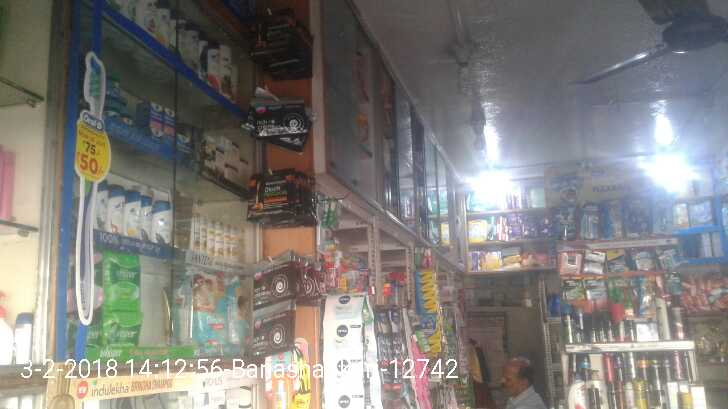beauty: (150, 200, 173, 244), (122, 190, 140, 239), (107, 190, 124, 236), (140, 196, 154, 242), (201, 134, 216, 173), (221, 136, 238, 164), (214, 222, 224, 263), (232, 226, 241, 269), (224, 160, 237, 185)
pharmacy: (164, 270, 228, 349), (100, 247, 142, 312), (99, 312, 141, 352), (150, 122, 187, 156), (141, 95, 178, 125)
